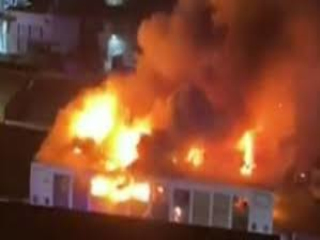fire: (66, 91, 150, 202), (176, 130, 271, 180)
smoke: (114, 16, 304, 124)
